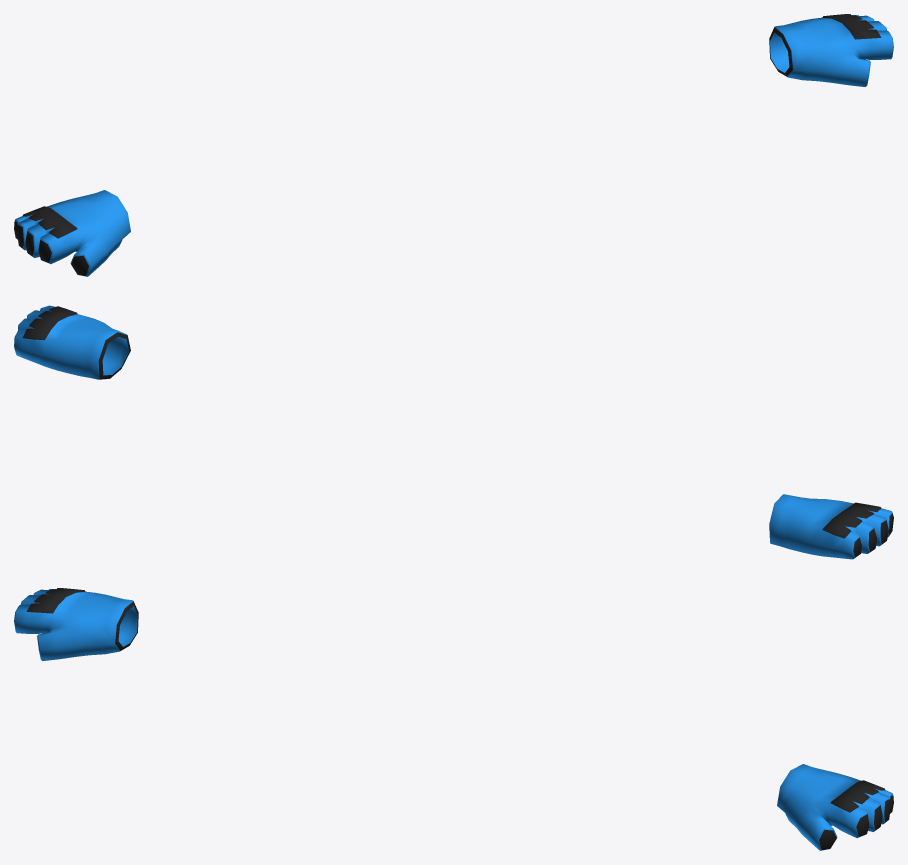
Rendered from Glove_020.glb.
The picture shows the model from 3 angles, top to bottom: view 1: azimuth 30°, elevation 25°; view 2: azimuth 150°, elevation 25°; view 3: azimuth 330°, elevation 25°; orthographic projection.
Parts seen in each view (by area): view 1: Glove_020; view 2: Glove_020; view 3: Glove_020.
Boxes of the visible parts, x1=… form: Glove_020: x1=14, y1=14, x2=893, y2=276; Glove_020: x1=14, y1=305, x2=893, y2=559; Glove_020: x1=14, y1=588, x2=893, y2=850.
Bounding box in the file's own units: 1.67 × 0.091 × 0.162.
1 material, 1 textured.
